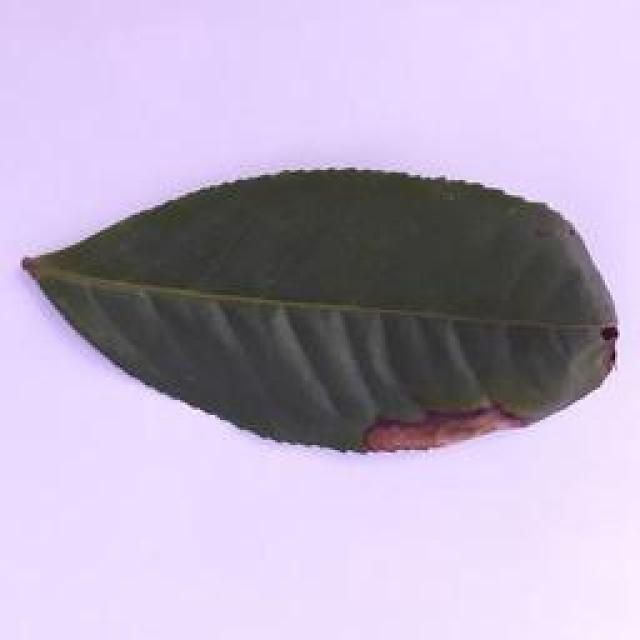Gray Blight: (22, 161, 622, 462)
